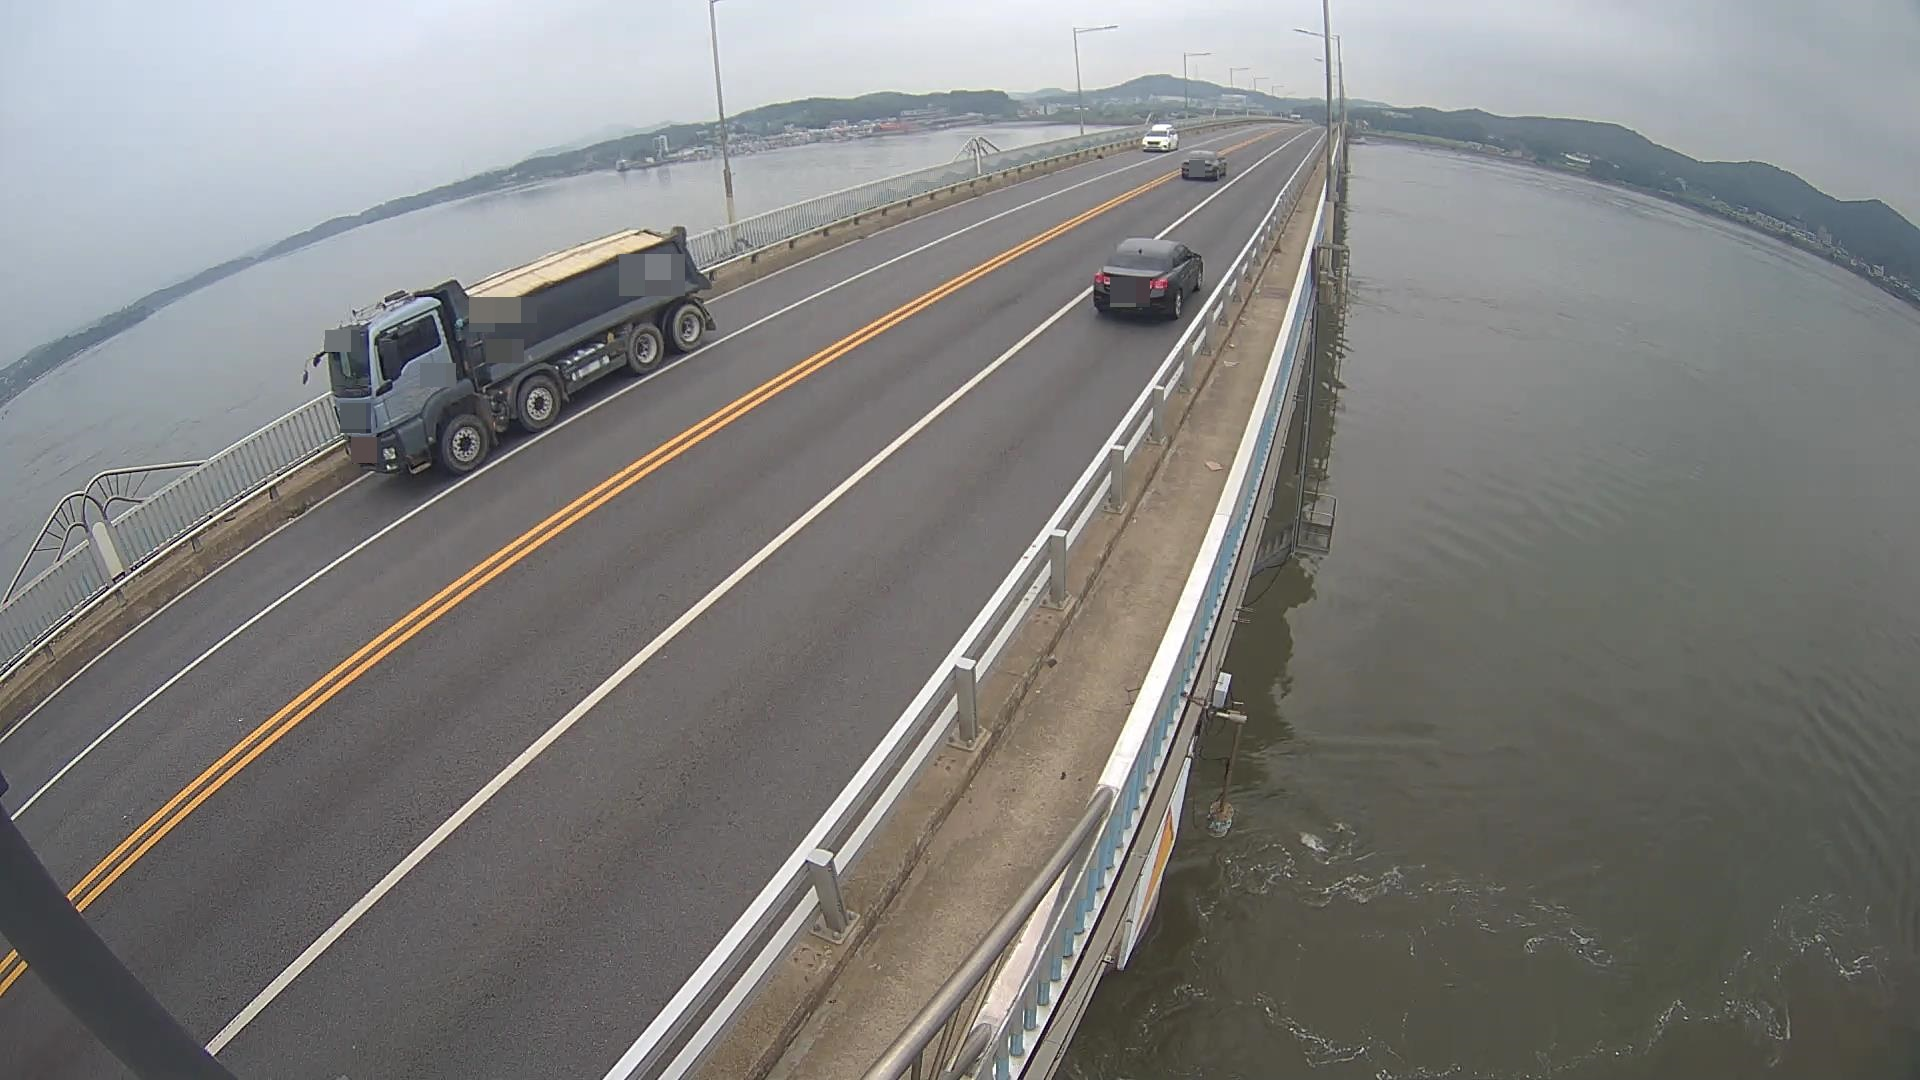정상차량: (303, 227, 716, 475)
